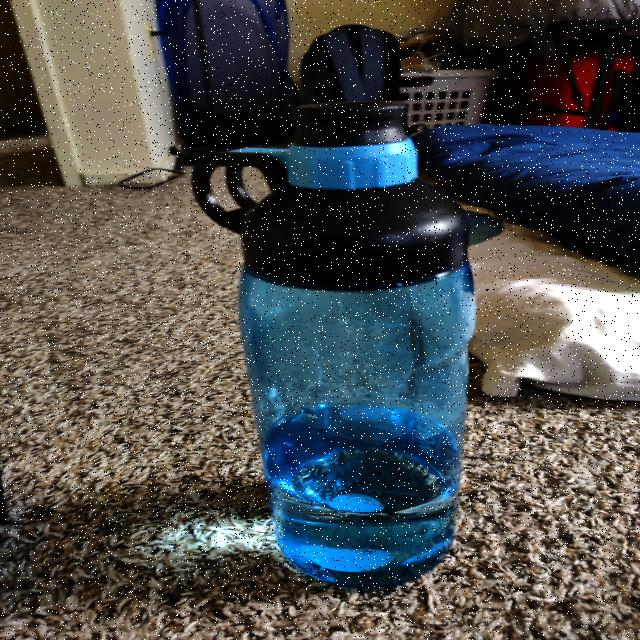bottle: (220, 109, 478, 552)
